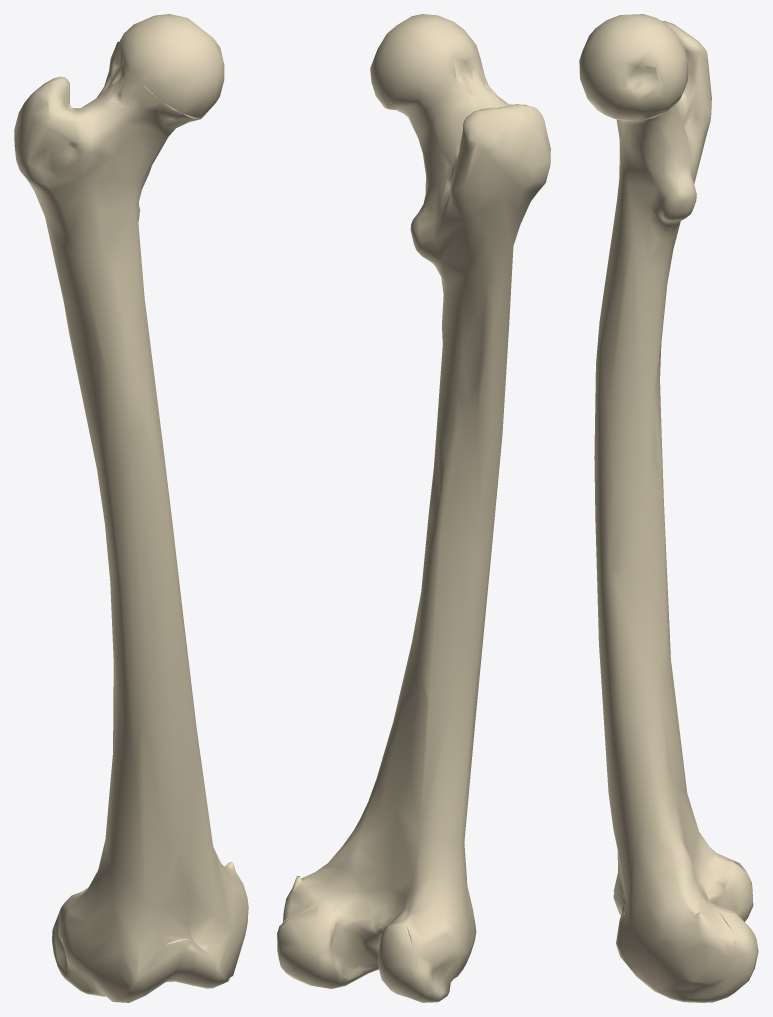
Rendered from esqueleto-femur-r.glb.
The picture shows the model from 3 angles, left to right: view 1: azimuth 30°, elevation 25°; view 2: azimuth 150°, elevation 25°; view 3: azimuth 270°, elevation 25°; orthographic projection. The views are drawn at different scales.
Visible parts, largest first — view 1: Femur.r; view 2: Femur.r; view 3: Femur.r.
Part boxes in pixels (x1,y1,x2,y2): Femur.r: [14, 14, 248, 1002]; Femur.r: [277, 14, 550, 1002]; Femur.r: [579, 14, 758, 1002].
Size of the model in its own units: 0.1166 by 0.4544 by 0.0778.
